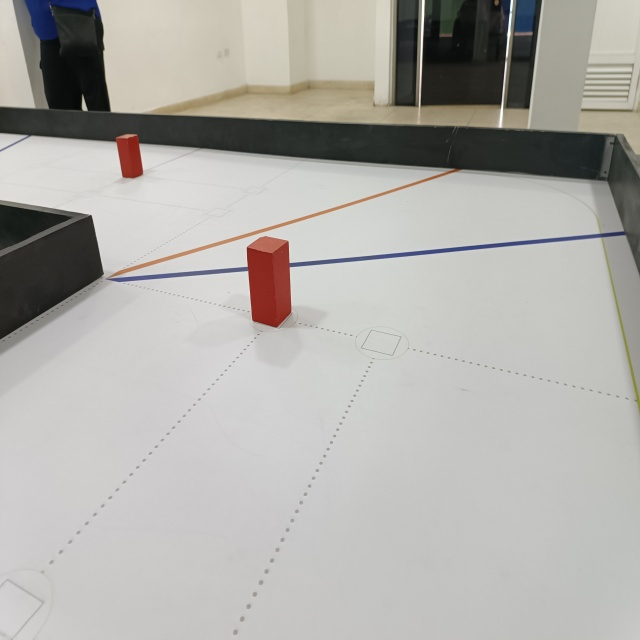blue line: (112, 229, 626, 284)
orange line: (106, 164, 461, 278)
red rectangular prism: (242, 237, 296, 332), (113, 136, 150, 181)
